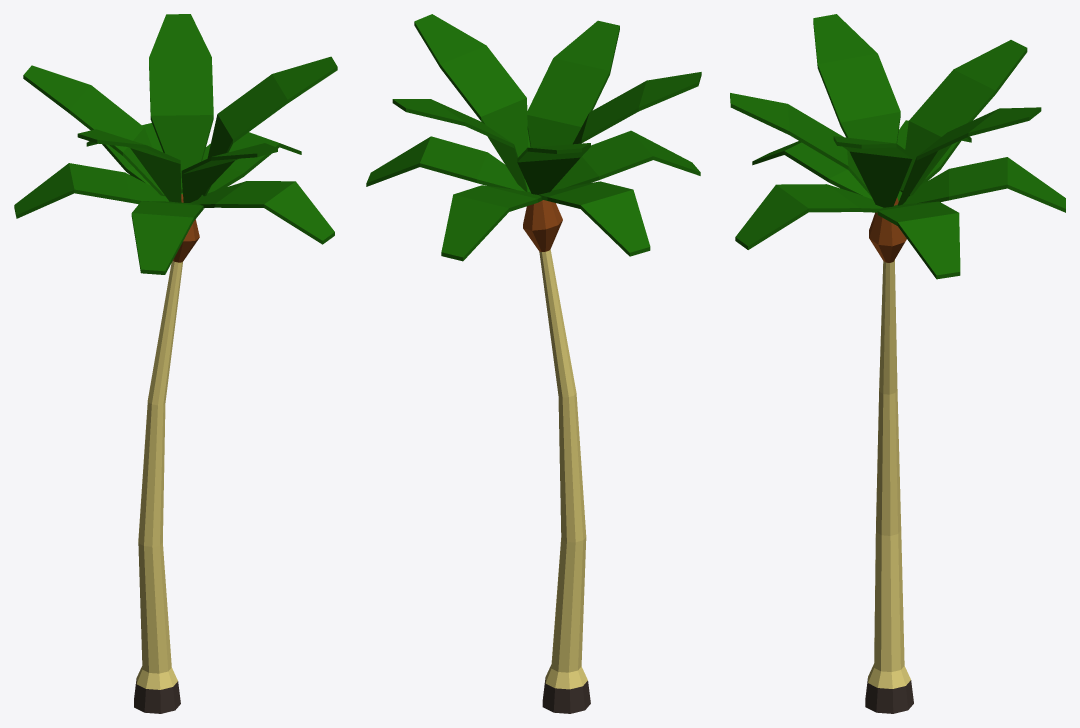
Rendered from Palm_Tree_Spring.fbx.
The picture shows the model from 3 angles, left to right: view 1: azimuth 30°, elevation 25°; view 2: azimuth 150°, elevation 25°; view 3: azimuth 270°, elevation 25°; orthographic projection. The views are drawn at different scales.
Parts seen in each view (by area): view 1: Palm_Tree_Spring; view 2: Palm_Tree_Spring; view 3: Palm_Tree_Spring.
Boxes of the visible parts, <box> form: Palm_Tree_Spring: <box>14,14,337,713</box>; Palm_Tree_Spring: <box>366,14,701,713</box>; Palm_Tree_Spring: <box>730,14,1065,713</box>.
Bounding box in the file's own units: 260 × 549 × 261.
